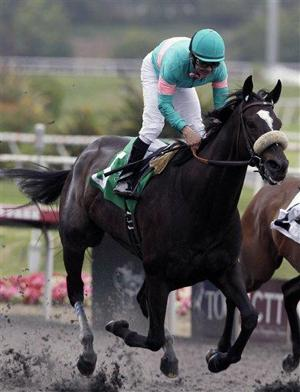person: (113, 30, 232, 199)
